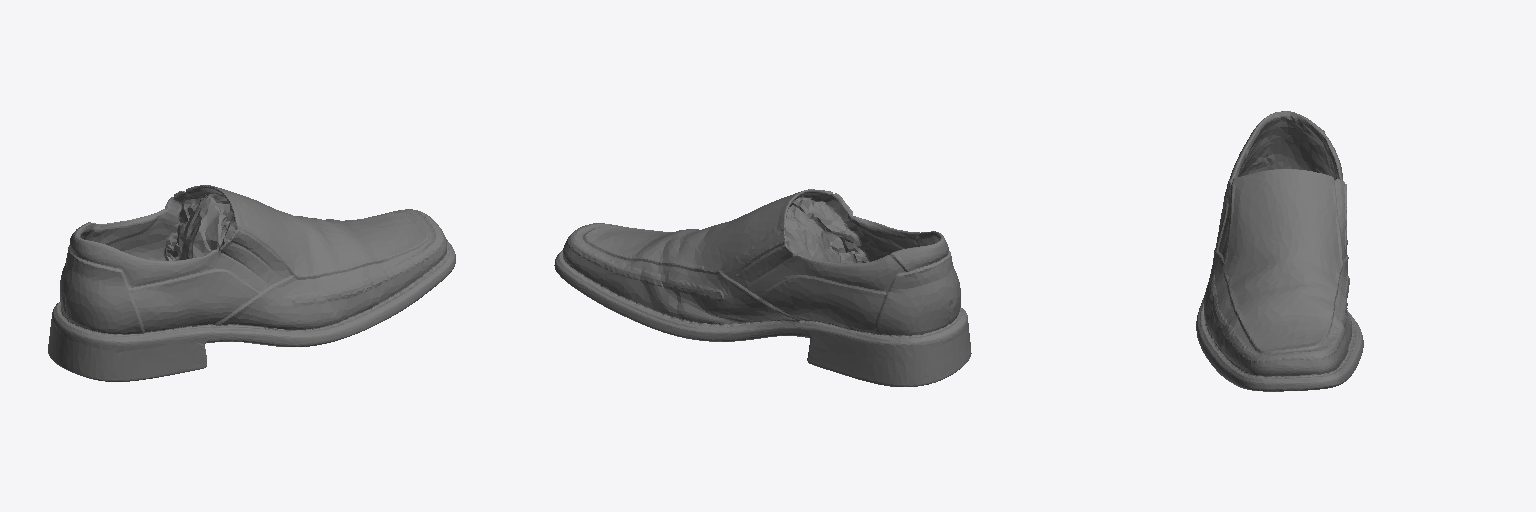
File: sh_oldOxfordShoe.obj
3 views of the same model, side by side, from view 1: azimuth 30°, elevation 25°; view 2: azimuth 150°, elevation 25°; view 3: azimuth 270°, elevation 25° (orthographic).
Visible parts, largest first — view 1: sh_oldOxfordShoe; view 2: sh_oldOxfordShoe; view 3: sh_oldOxfordShoe.
Boxes of the visible parts, x1,y1,x2,y2 form: sh_oldOxfordShoe: [48, 185, 455, 381]; sh_oldOxfordShoe: [554, 189, 971, 386]; sh_oldOxfordShoe: [1196, 111, 1363, 391].
Size of the model in its own units: 0.3066 by 0.1073 by 0.1142.